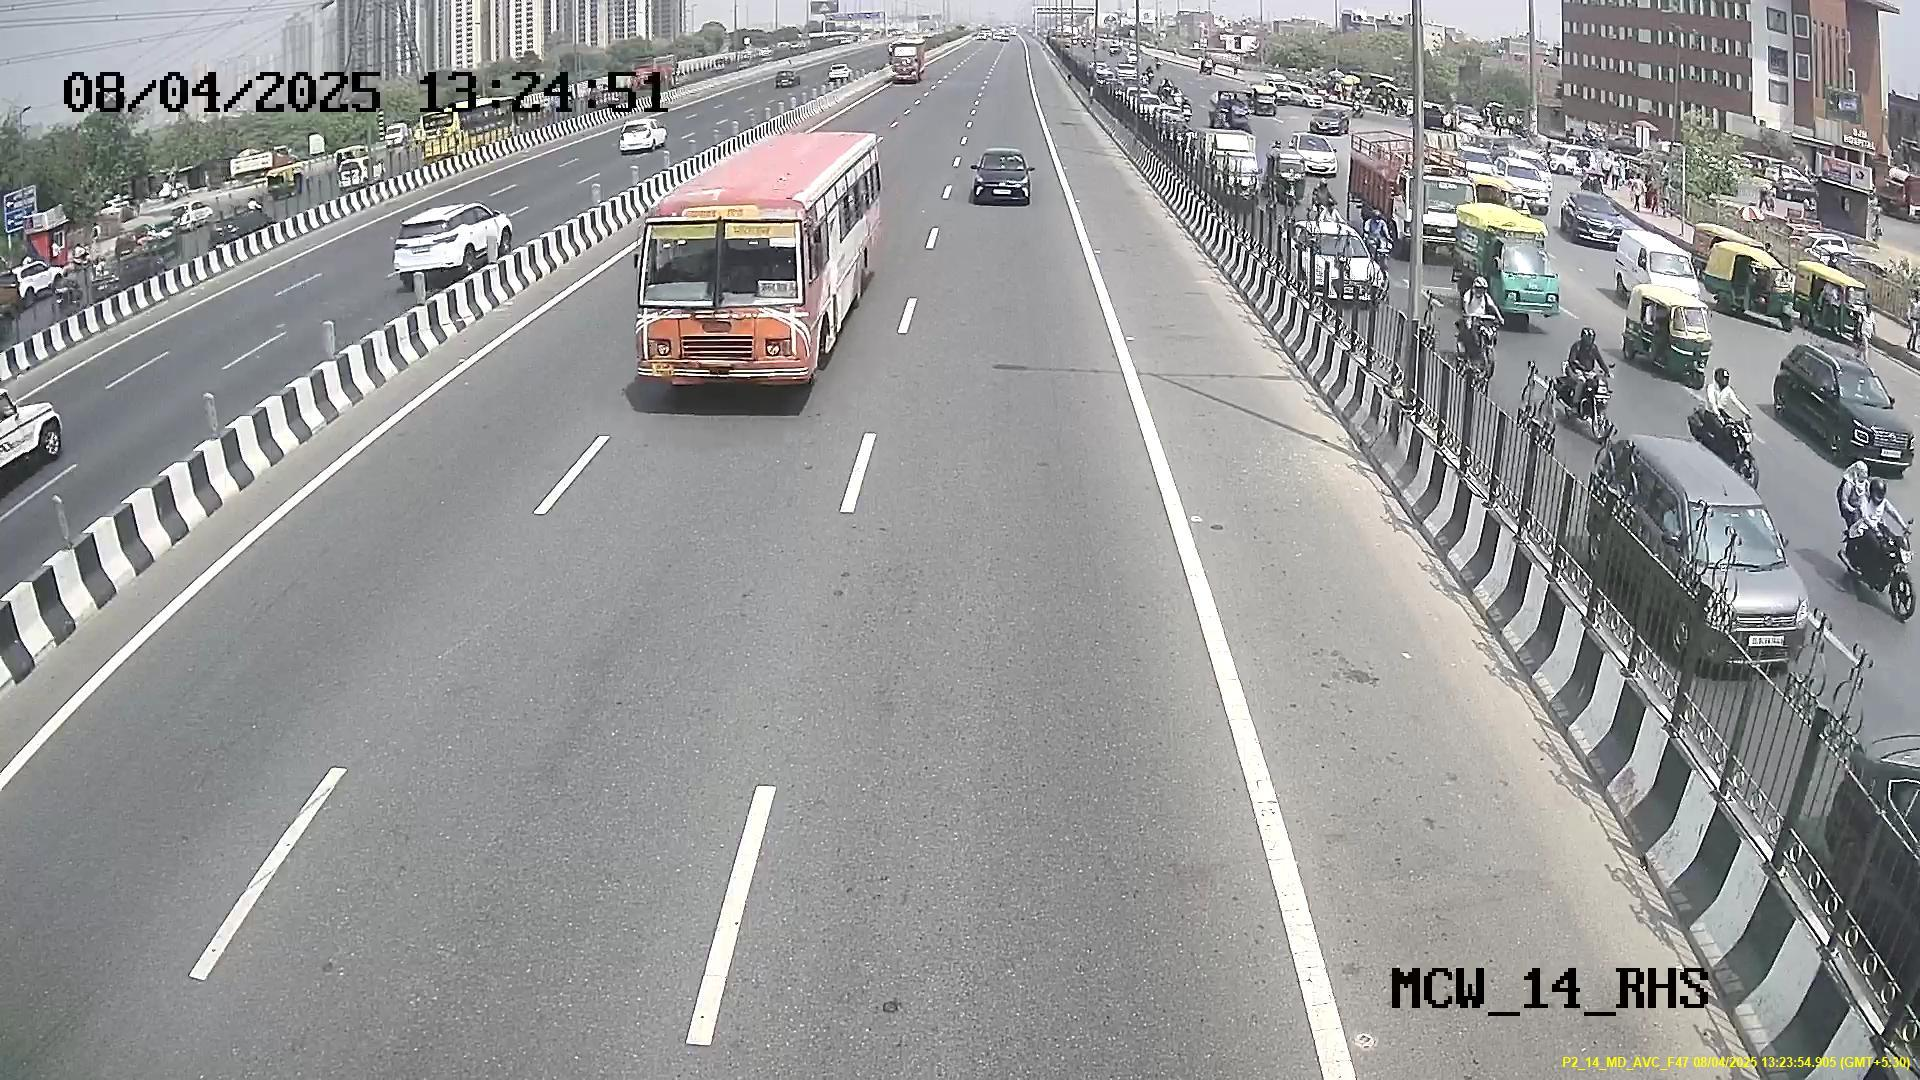bus: (625, 183, 848, 396)
